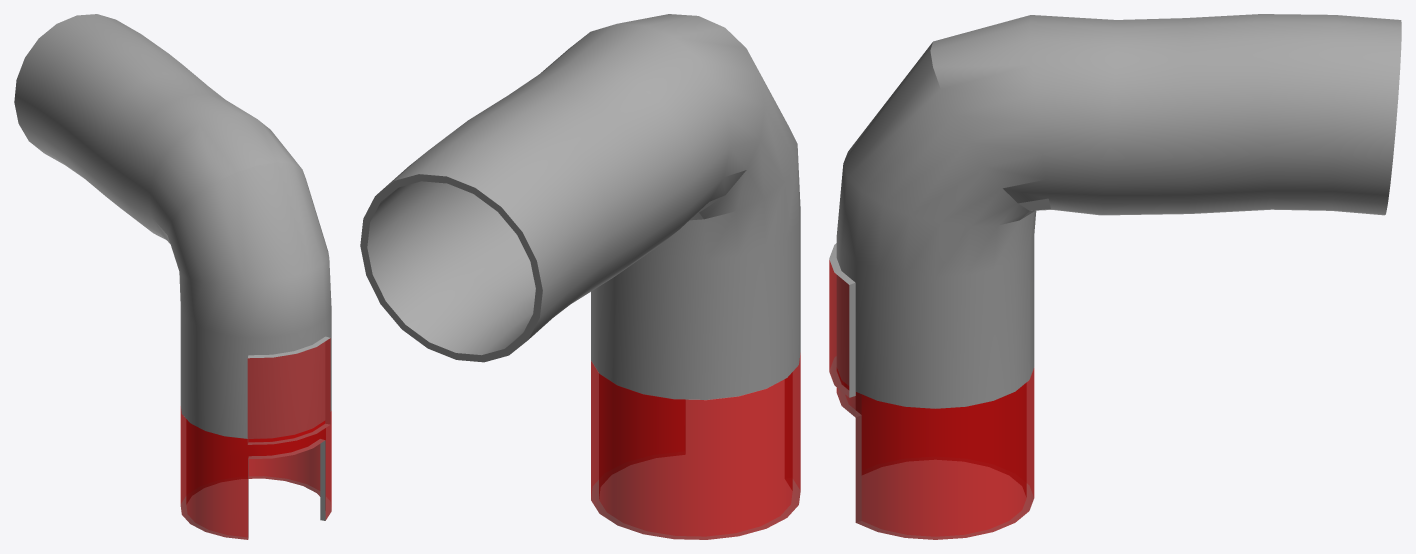
The model's file is tuyau aspiration.fbx.
3 renders of one model, left to right at view 1: azimuth 30°, elevation 25°; view 2: azimuth 150°, elevation 25°; view 3: azimuth 270°, elevation 25°, orthographic. The views are drawn at different scales.
Parts seen in each view (by area): view 1: tuyau, corps, Porte_sasse; view 2: tuyau, corps; view 3: tuyau, corps, Porte_sasse.
Part boxes in pixels (box(x1,y1,x2,y2)): tuyau: box(14, 14, 331, 438); corps: box(180, 406, 331, 539); Porte_sasse: box(247, 336, 330, 444); tuyau: box(360, 14, 800, 399); corps: box(591, 353, 800, 539); tuyau: box(836, 14, 1401, 408); corps: box(836, 367, 1034, 539); Porte_sasse: box(829, 243, 855, 397).
Size of the model in its own units: 129 by 343 by 374.
